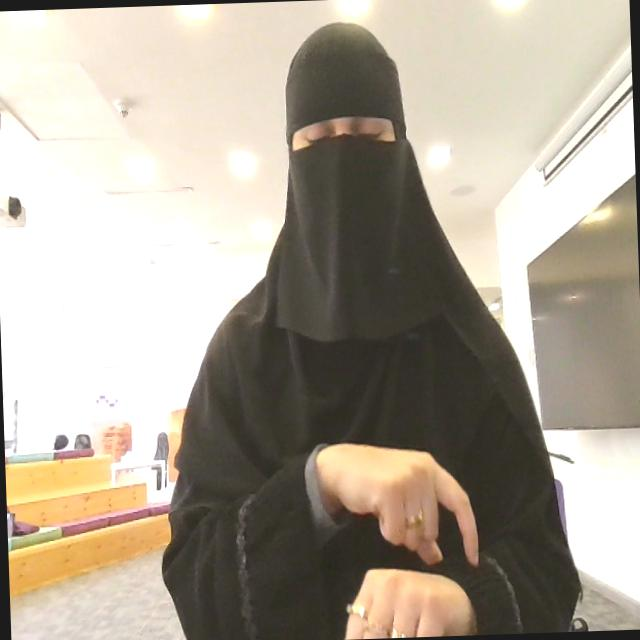appointment: (317, 435, 484, 640)
